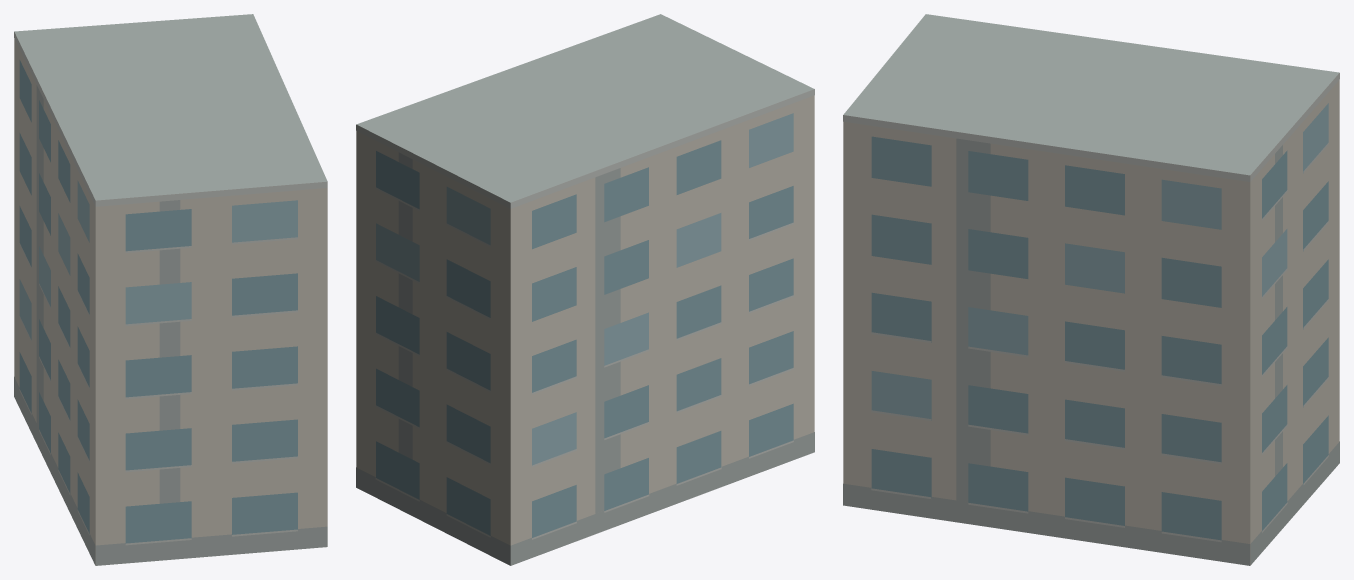
File: survey-upis-32982203.glb
3 views of the same model, side by side, from view 1: azimuth 30°, elevation 25°; view 2: azimuth 150°, elevation 25°; view 3: azimuth 270°, elevation 25° (orthographic). The views are drawn at different scales.
Visible parts, largest first — view 1: survey-upis-32982203.tmp; view 2: survey-upis-32982203.tmp; view 3: survey-upis-32982203.tmp.
Part boxes in pixels (box(x1,y1,x2,y2)): survey-upis-32982203.tmp: box(14, 14, 327, 565); survey-upis-32982203.tmp: box(356, 14, 814, 565); survey-upis-32982203.tmp: box(843, 14, 1339, 565).
Bounding box in the file's own units: 12.6 × 14.2 × 16.38.
